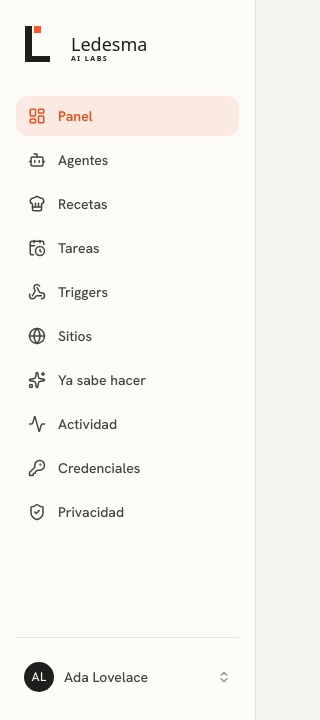
Test: UserMenu (menu de usuario del footer del sidebar) › se cierra con Escape devolviendo el foco al boton de cuenta
Click the button "AL Ada Lovelace": (128, 677) [16,654,239,700]
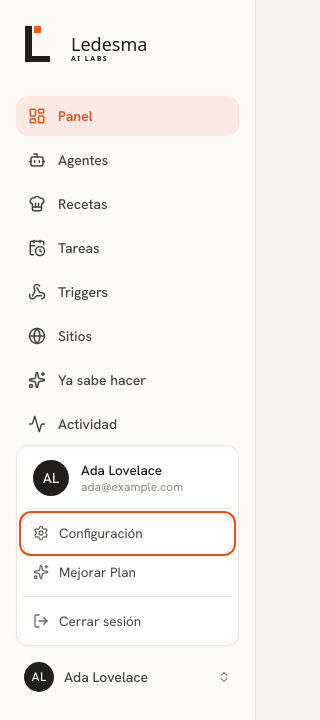
Check: the menu is shown, box [16,445,239,646]
Press Escape
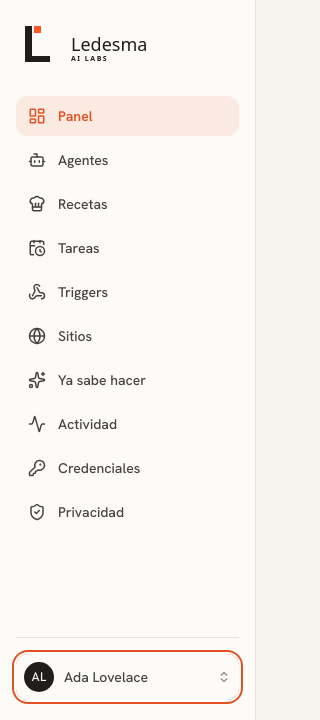
Check: the menu is gone
